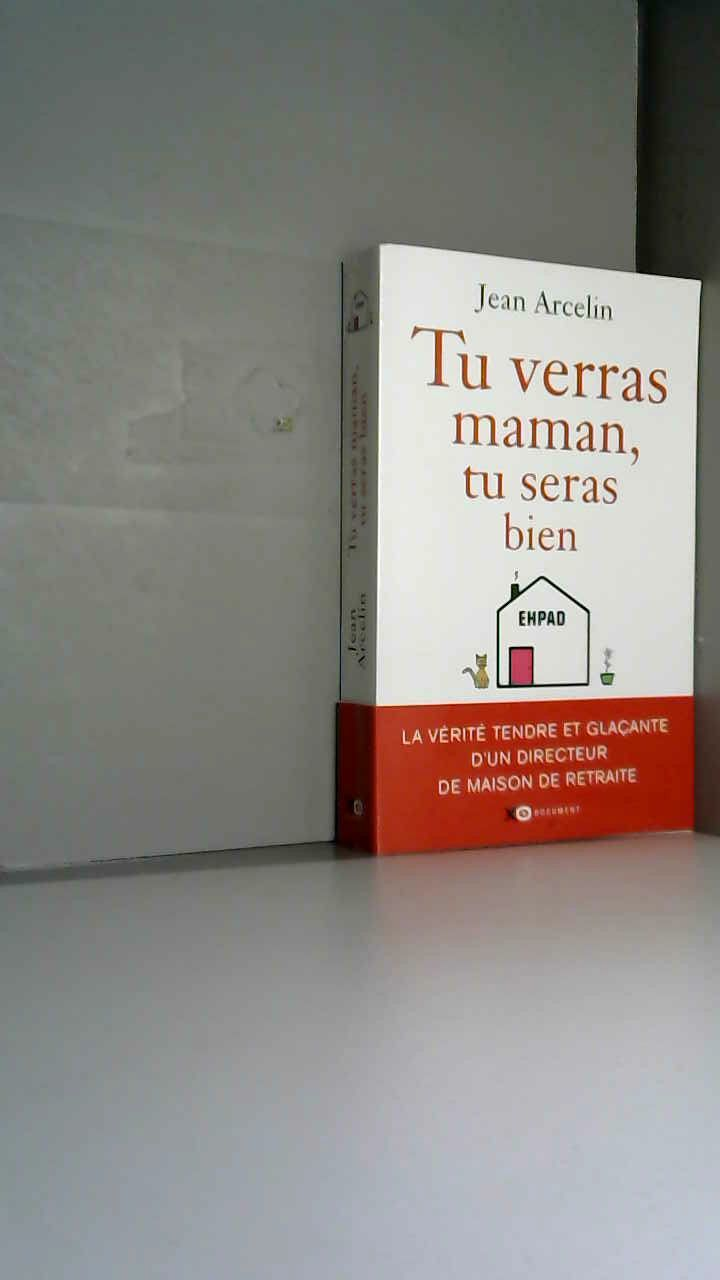book: (310, 220, 720, 909)
